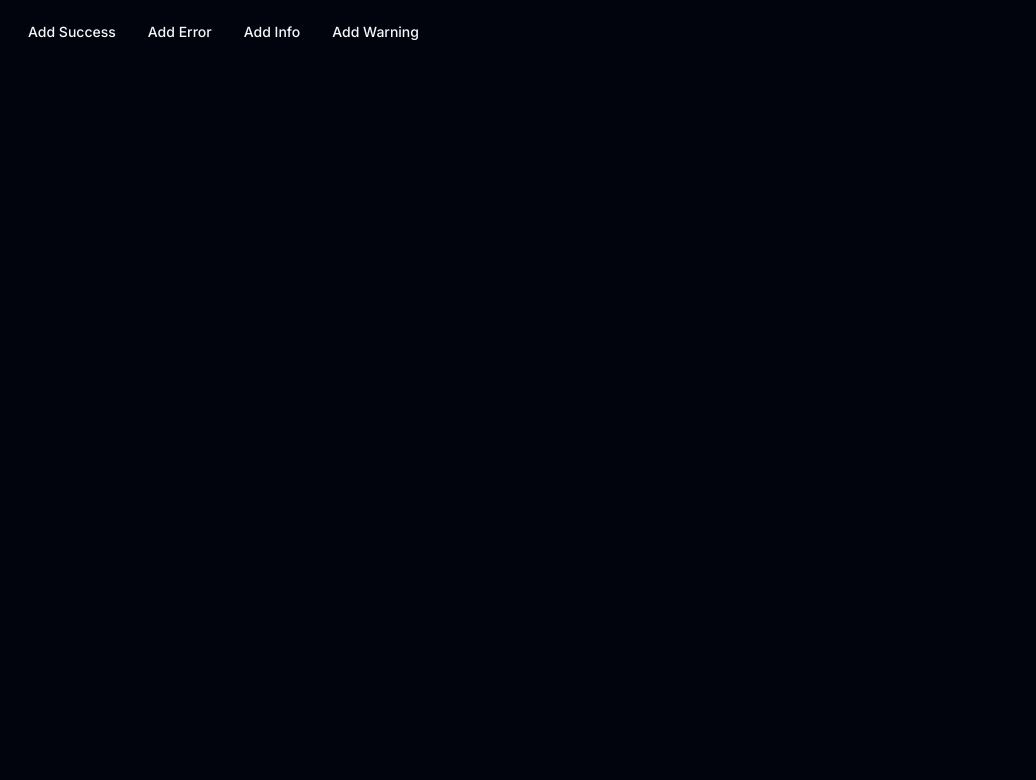
Test case: ToastContext › adds and displays a success toast
Click the button "Add Success" at (72, 32), box [12,12,132,52]
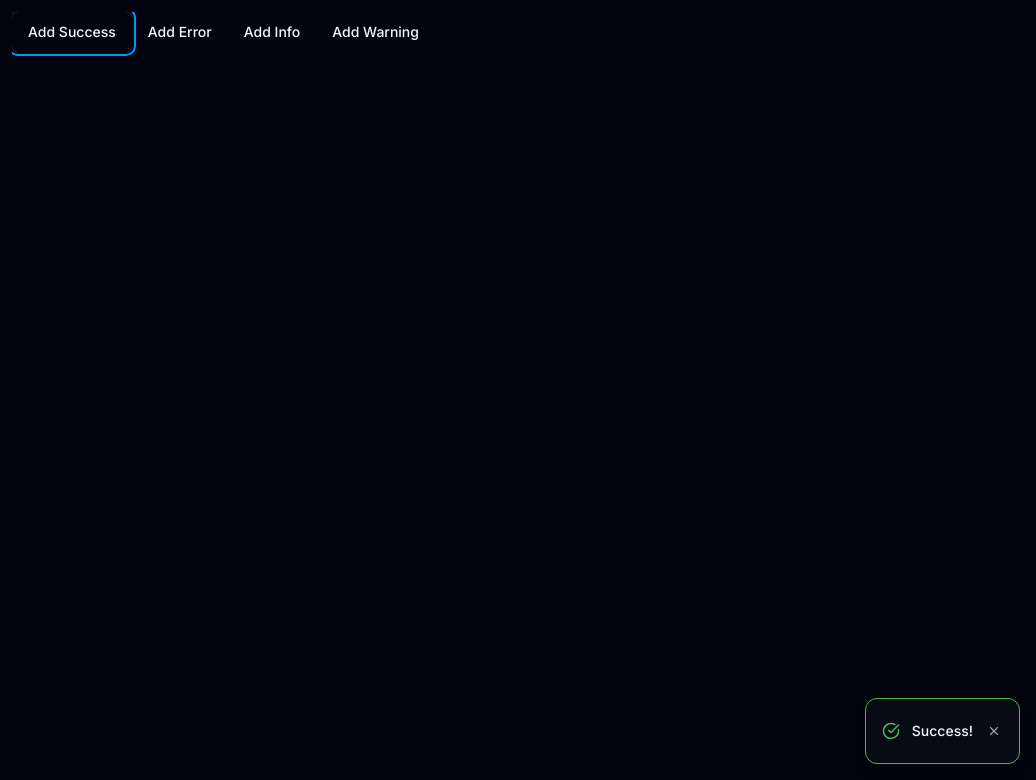
Result: the text "Success!" is shown at [912,721,973,741]
